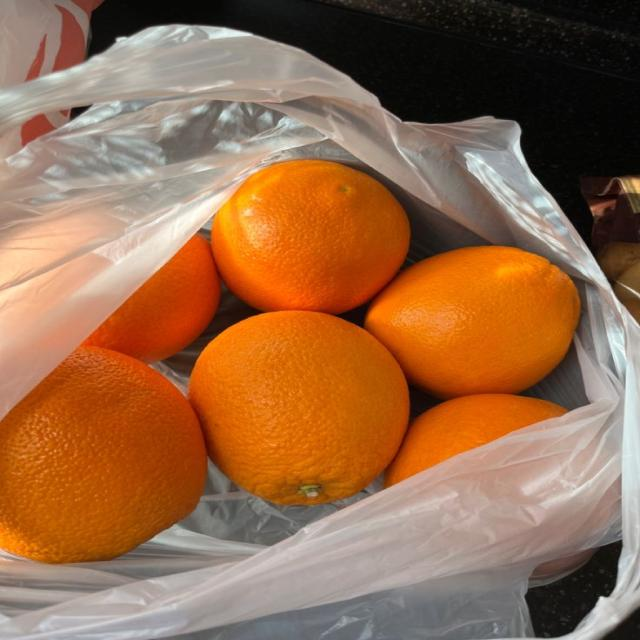orange: (0, 348, 206, 563), (189, 312, 408, 504), (366, 246, 579, 398), (213, 160, 409, 313), (84, 235, 220, 362), (385, 395, 567, 486)
